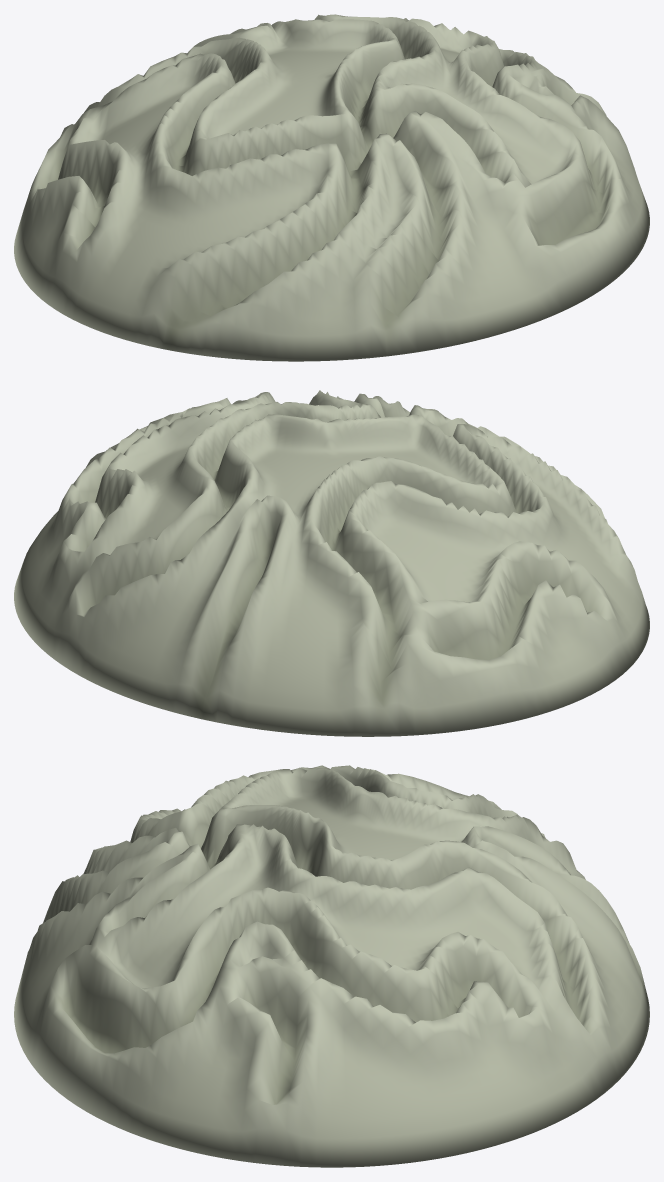
Rendered from meandrina.glb.
3 renders of one model, top to bottom at view 1: azimuth 30°, elevation 25°; view 2: azimuth 150°, elevation 25°; view 3: azimuth 270°, elevation 25°, orthographic. The views are drawn at different scales.
Parts seen in each view (by area): view 1: continuous-mound-with-sculpted-meandering-valleys; view 2: continuous-mound-with-sculpted-meandering-valleys; view 3: continuous-mound-with-sculpted-meandering-valleys.
Part boxes in pixels (x1,y1,x2,y2): continuous-mound-with-sculpted-meandering-valleys: (14,14,649,361); continuous-mound-with-sculpted-meandering-valleys: (14,390,649,736); continuous-mound-with-sculpted-meandering-valleys: (14,765,649,1167).
Bounding box in the file's own units: 0.18 × 0.0629 × 0.158.
1 material, 1 textured.
